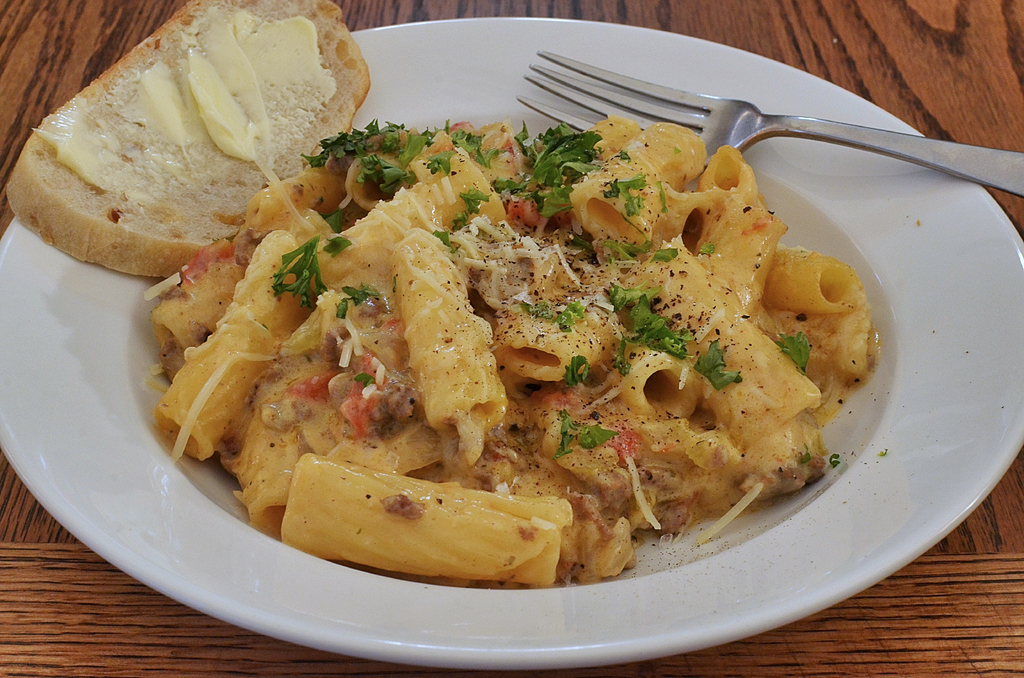pasta: (159, 121, 874, 599)
